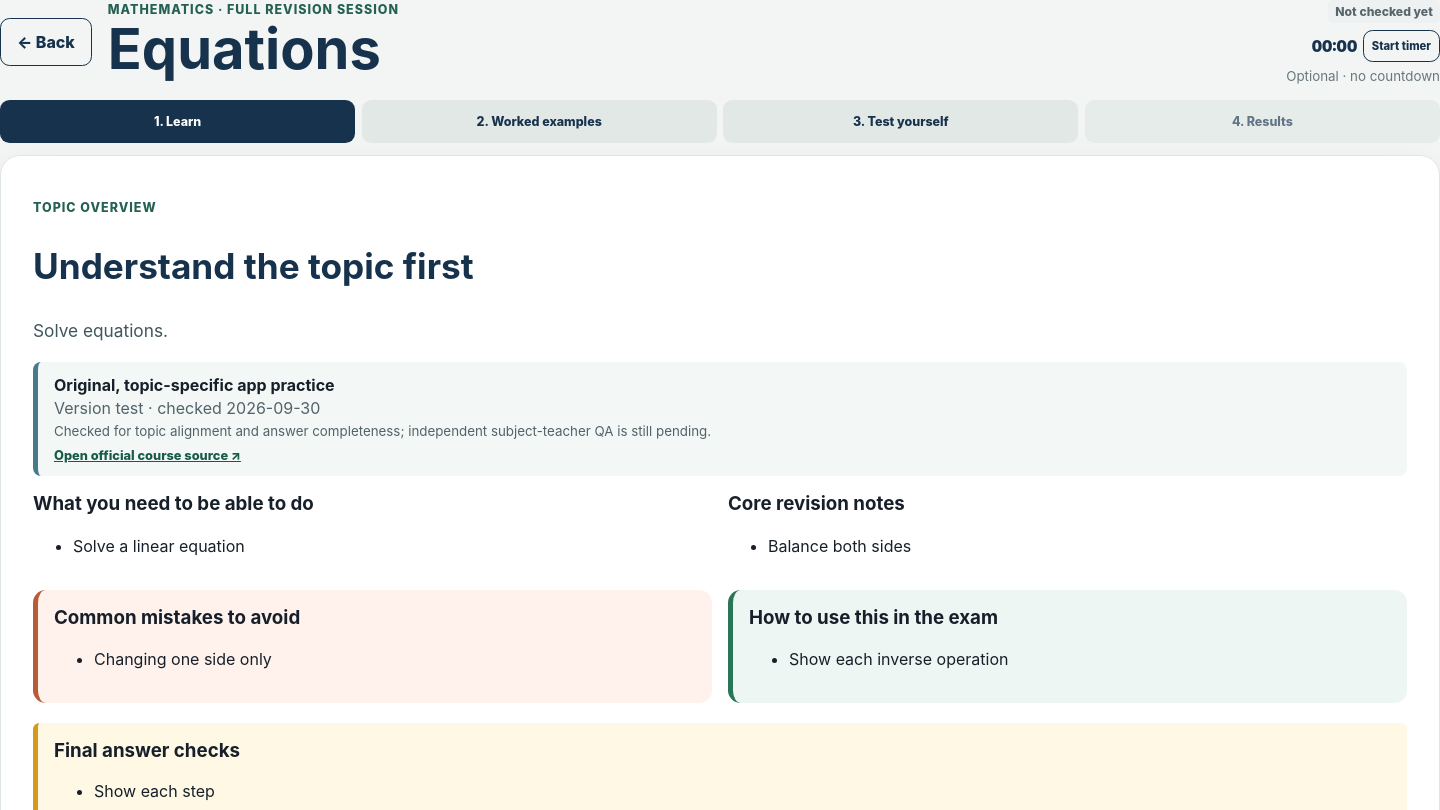
Test case: revision learning content › auto-marks a full-page test and records its weighted score
This screenshot has width=1440, height=810.
Click the button "3. Test yourself". click: (901, 121)
box: [723,100,1078,143]
(page scrolled)
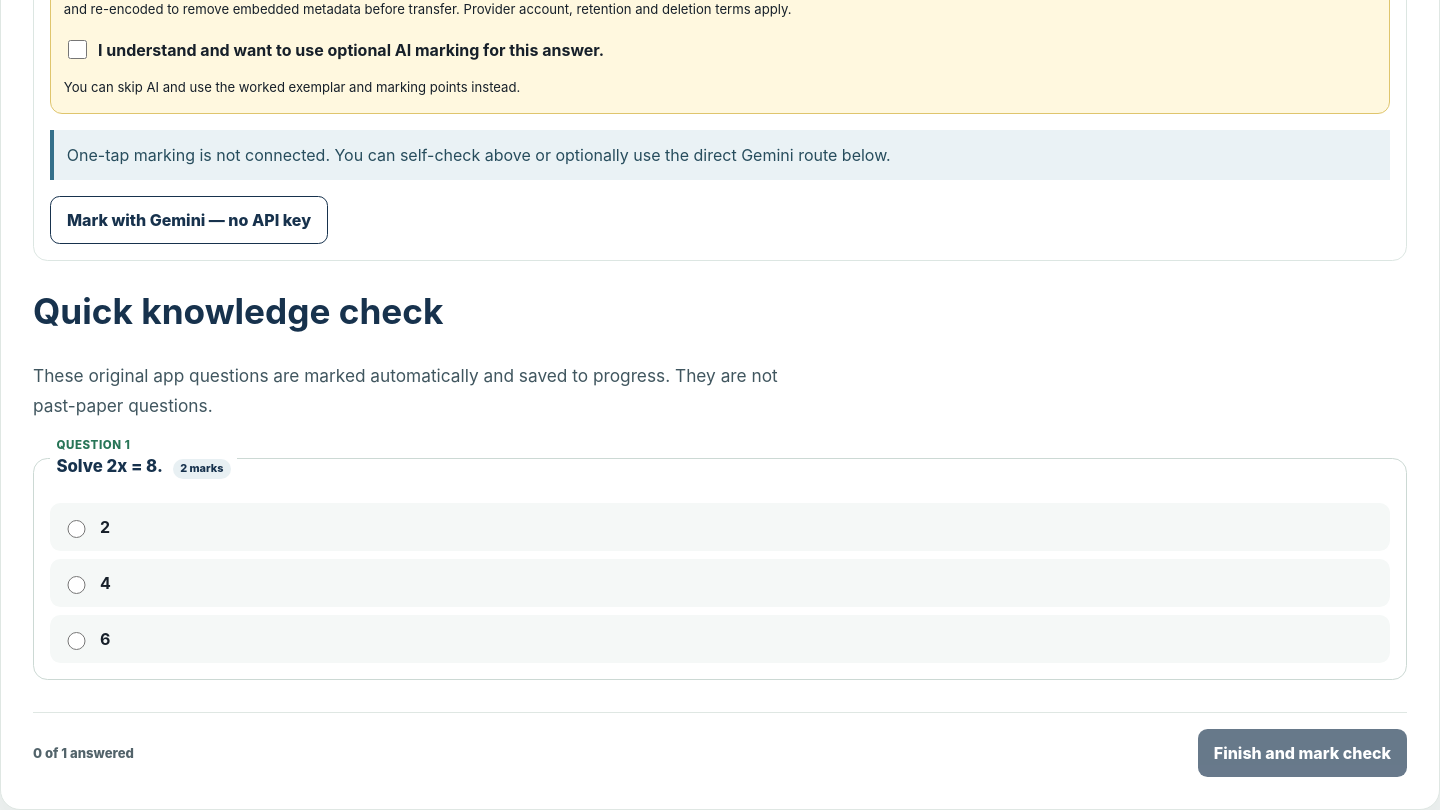
Click the radio button labelled "4". click: (77, 585)
box: [67,576,86,594]
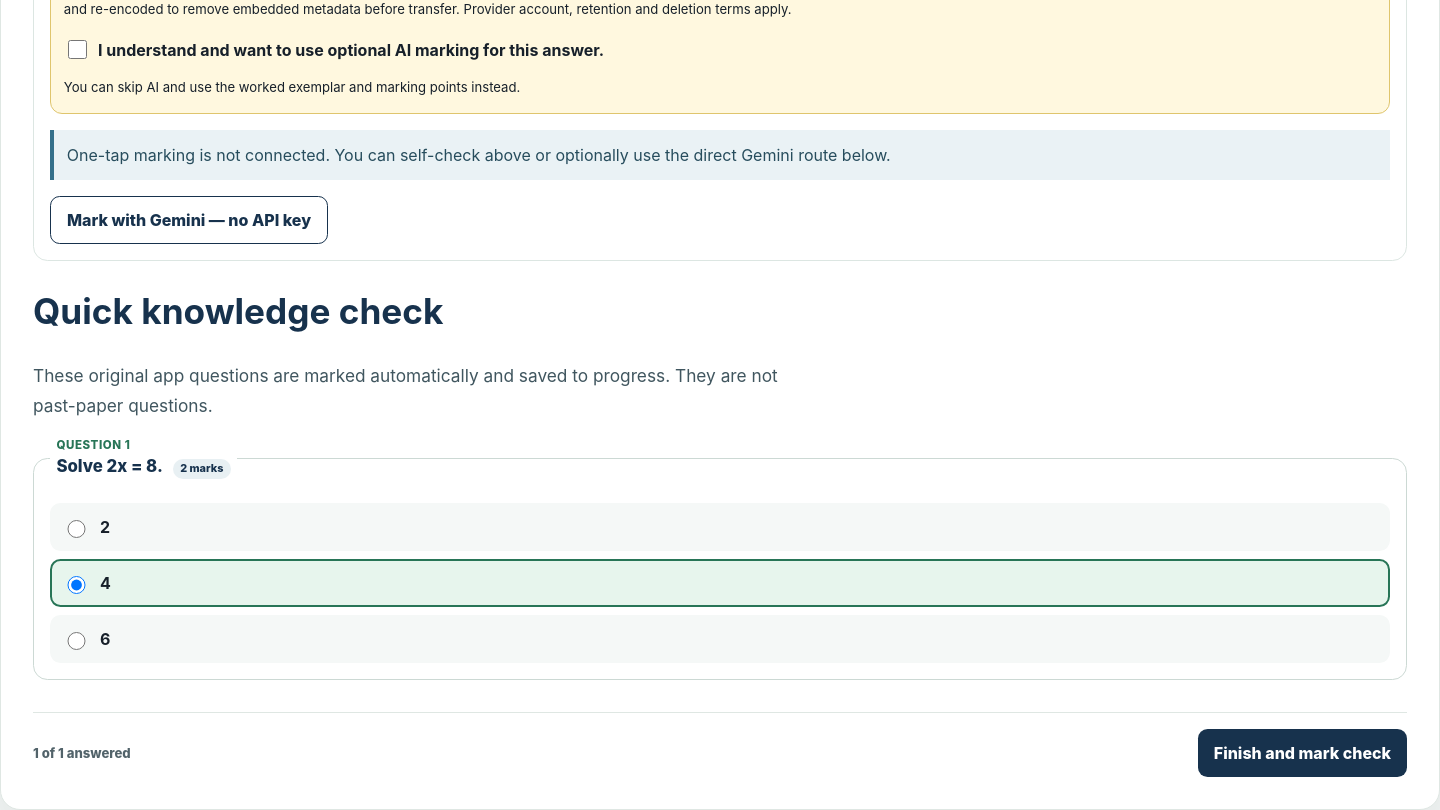
Click the button "Finish and mark check". click: (1302, 753)
box: [1198,729,1407,777]
(page scrolled)
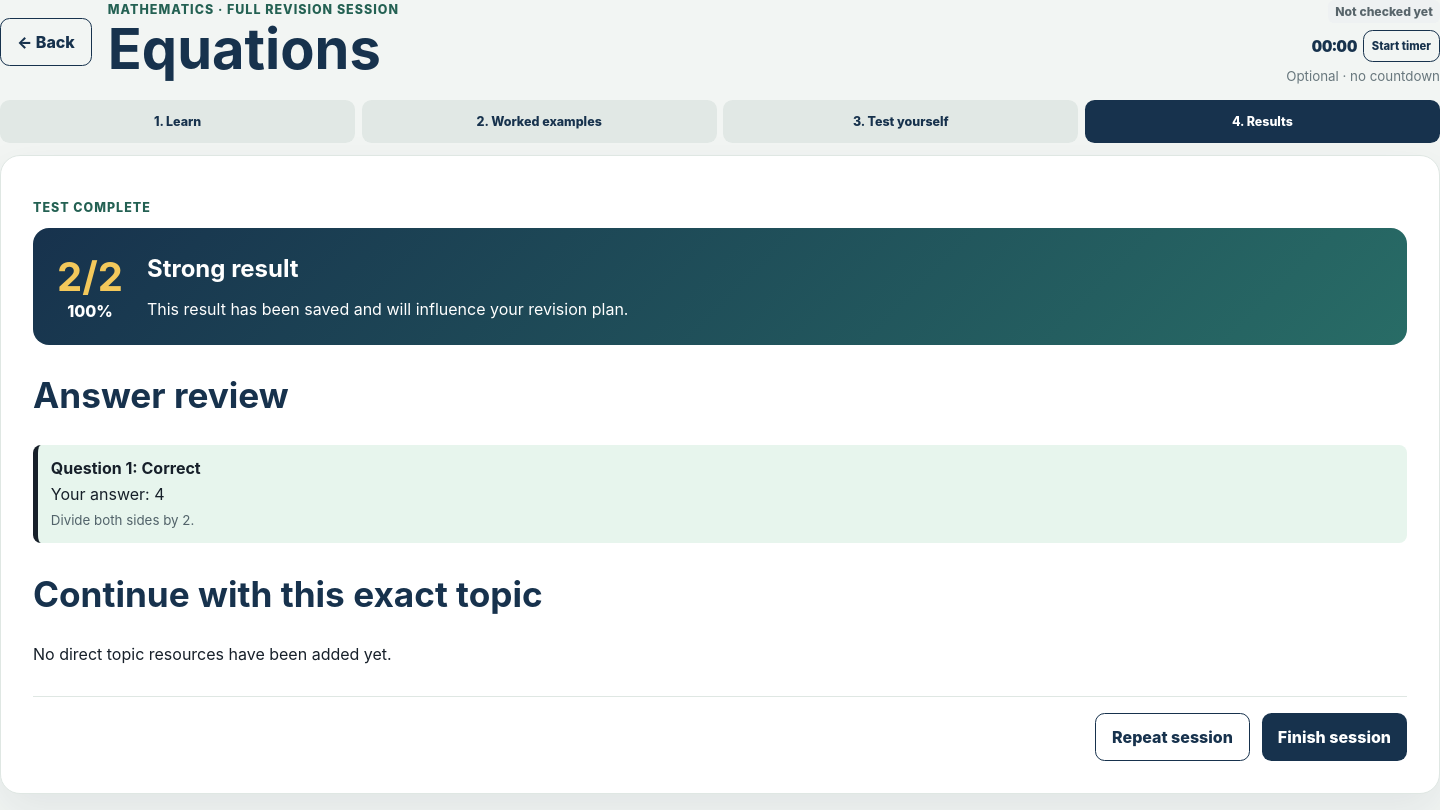
Expected: the text "2/2" is shown, [57,252,123,301]
